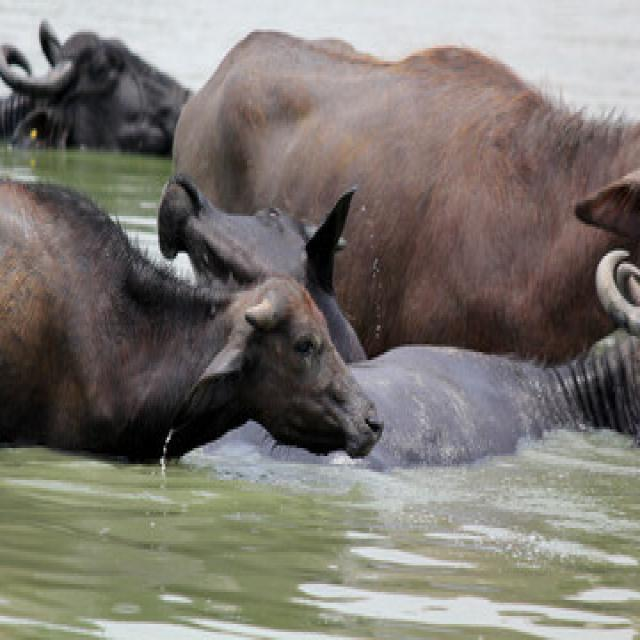Buffalo: (0, 173, 387, 471), (0, 4, 190, 148)
